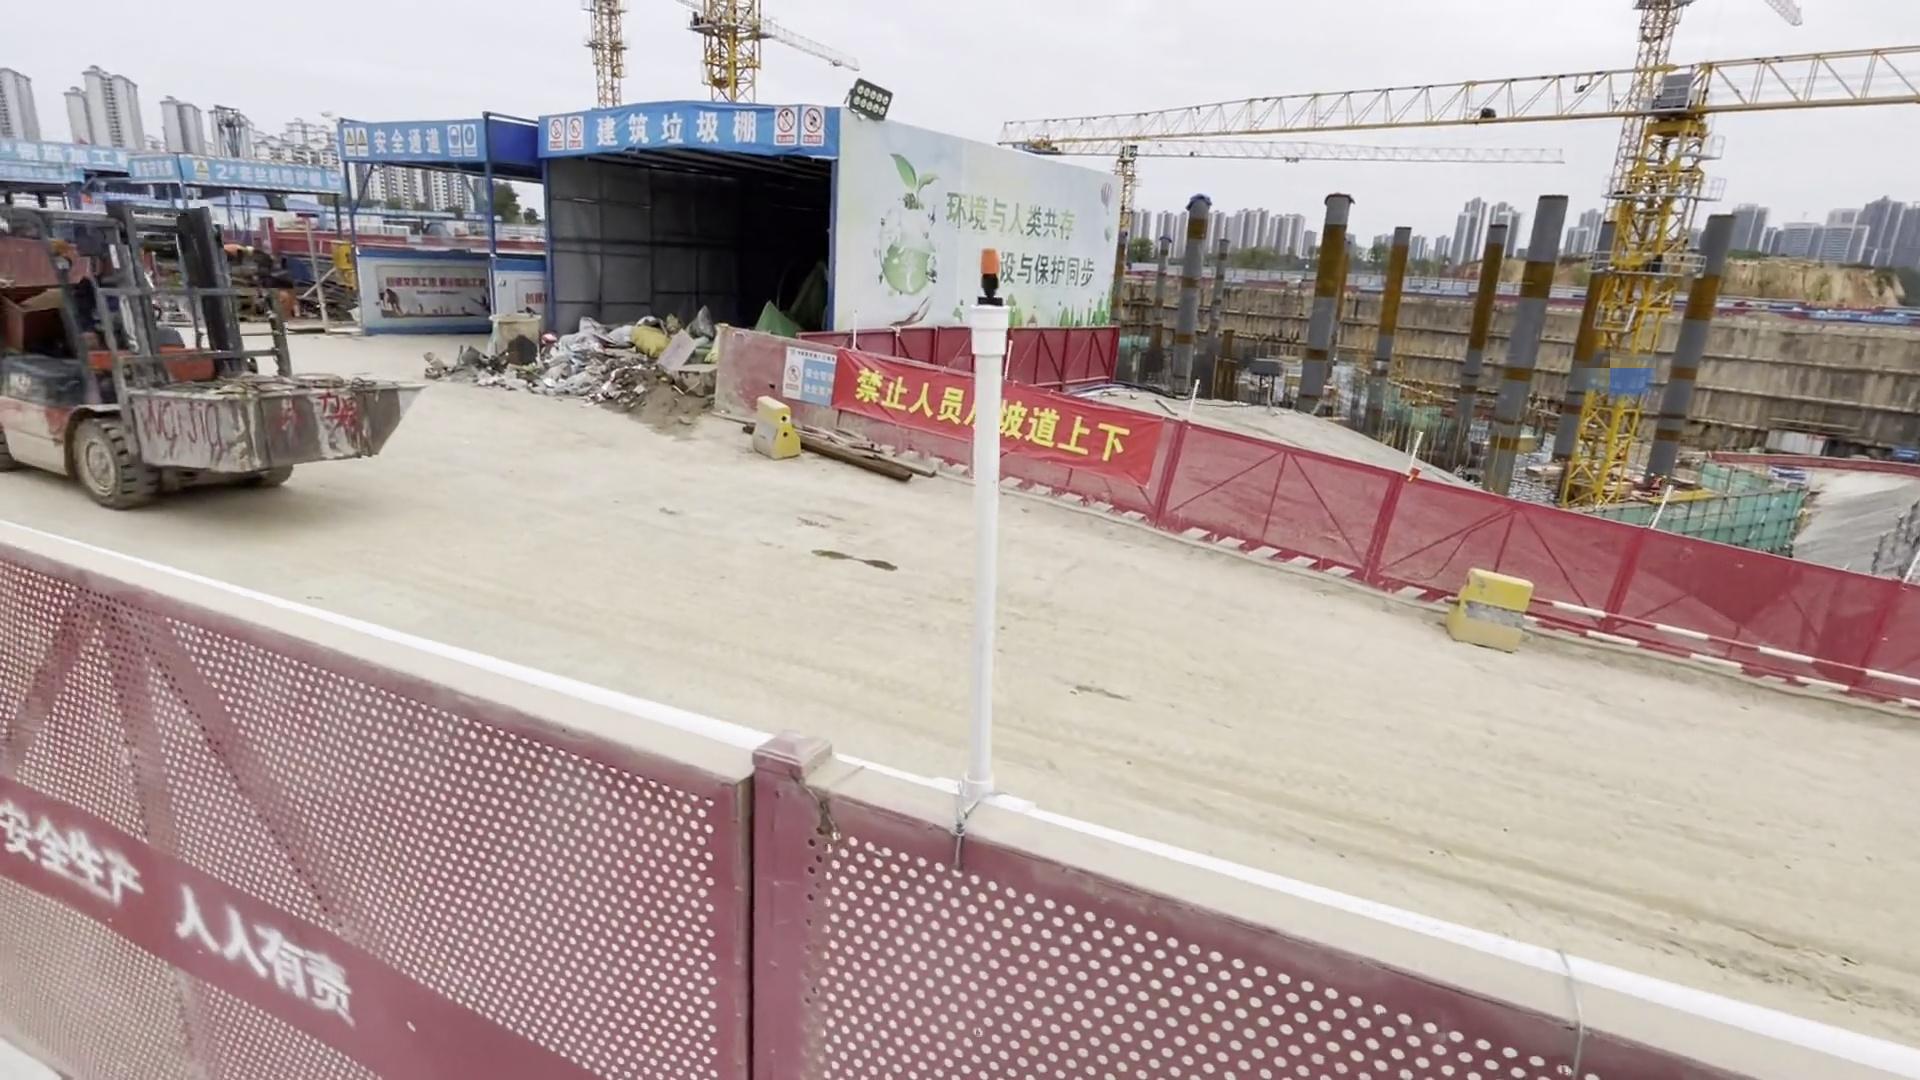slogan: (878, 152, 1108, 328), (832, 351, 1138, 472)
